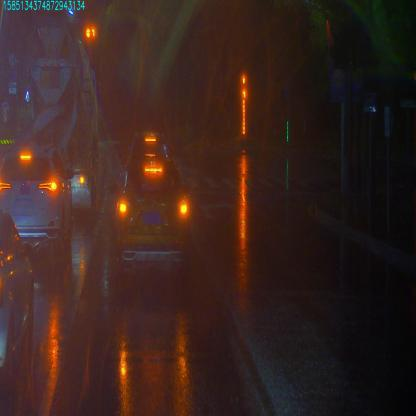traffic-light: (84, 26, 96, 36)
